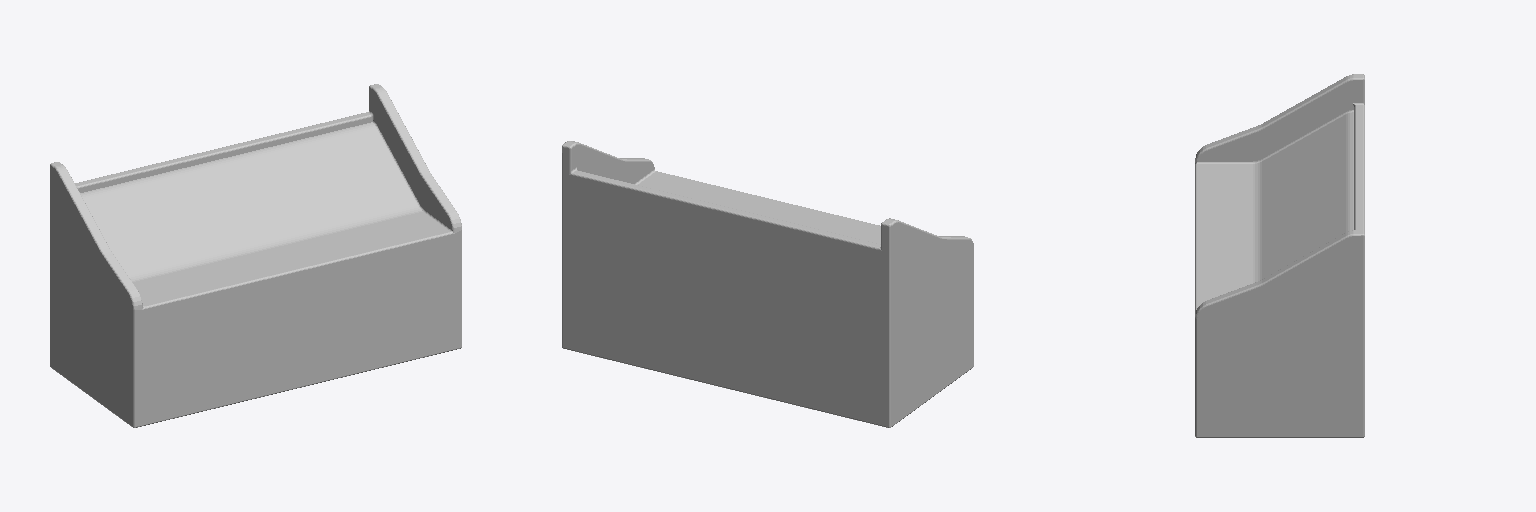
The model's file is Desk_Little.obj.
3 renders of one model, left to right at view 1: azimuth 30°, elevation 25°; view 2: azimuth 150°, elevation 25°; view 3: azimuth 270°, elevation 25°, orthographic.
Visible parts, largest first — view 1: Desk_Little; view 2: Desk_Little; view 3: Desk_Little.
Boxes of the visible parts, x1,y1,x2,y2 form: Desk_Little: [50, 84, 461, 427]; Desk_Little: [562, 141, 973, 427]; Desk_Little: [1195, 74, 1364, 437].
Size of the model in its own units: 2.28 by 1.35 by 1.02.